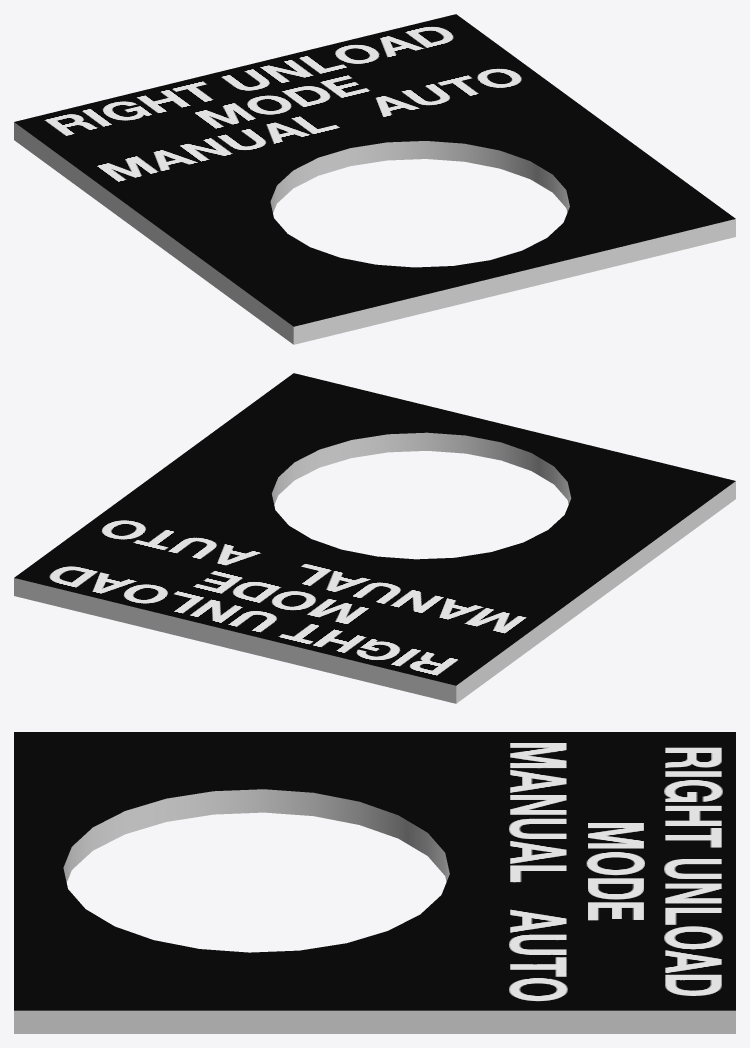
Rendered from rightunloadmodemain.dae.
The picture shows the model from 3 angles, top to bottom: view 1: azimuth 30°, elevation 25°; view 2: azimuth 150°, elevation 25°; view 3: azimuth 270°, elevation 25°; orthographic projection. The views are drawn at different scales.
Visible parts, largest first — view 1: SketchUp (×3); view 2: SketchUp (×3); view 3: SketchUp (×3).
Part boxes in pixels (<box>): SketchUp (×3): <box>14,14,735,344</box>; SketchUp (×3): <box>14,373,735,703</box>; SketchUp (×3): <box>14,732,735,1033</box>.
Bounding box in the file's own units: 2.01 × 2.2 × 0.0787.
2 materials, 1 textured.
